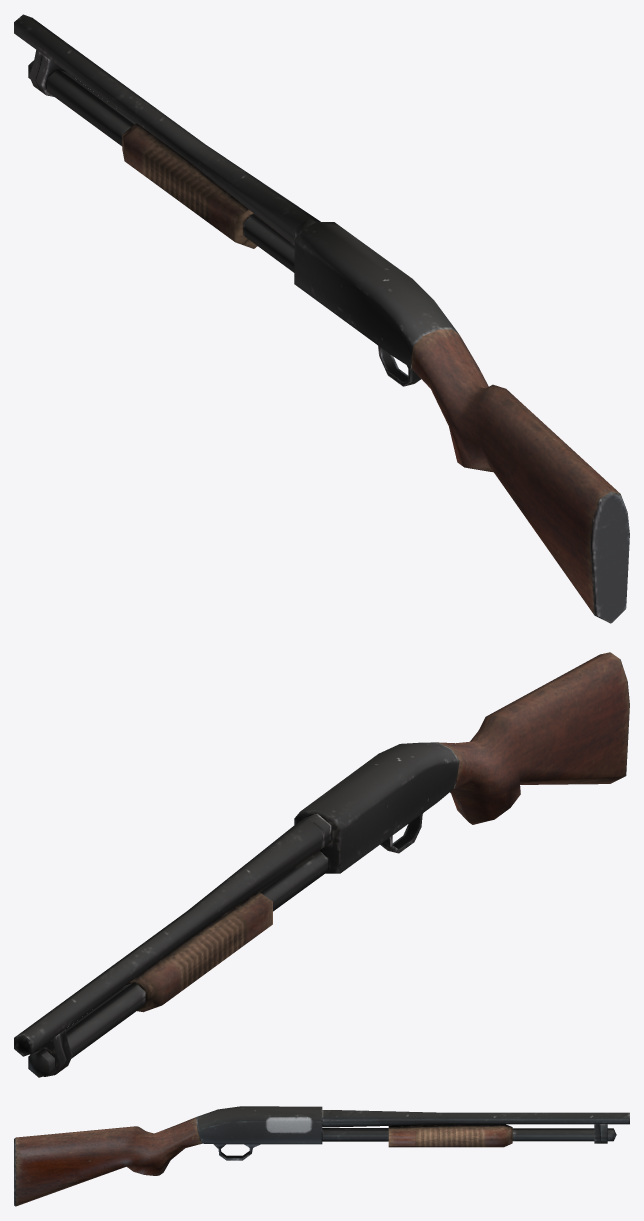
Rendered from Remington_Wood_Black.fbx.
The picture shows the model from 3 angles, top to bottom: view 1: azimuth 30°, elevation 25°; view 2: azimuth 150°, elevation 25°; view 3: azimuth 270°, elevation 25°; orthographic projection. The views are drawn at different scales.
Parts seen in each view (by area): view 1: Remington_Wood_Black; view 2: Remington_Wood_Black; view 3: Remington_Wood_Black.
Part boxes in pixels (box(x1,y1,x2,y2)): Remington_Wood_Black: box(14, 14, 629, 623); Remington_Wood_Black: box(14, 652, 629, 1077); Remington_Wood_Black: box(14, 1106, 629, 1206).
Size of the model in its own units: 0.0274 by 0.6064 by 0.1064.
